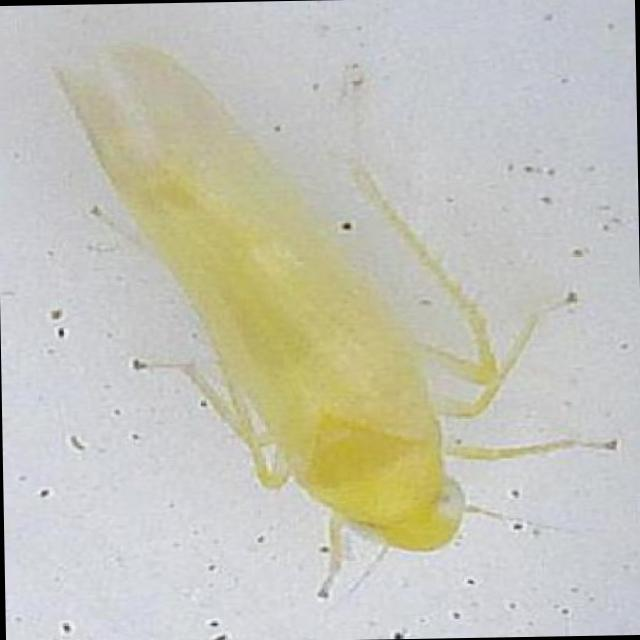green-leafhopper: (58, 48, 494, 562)
